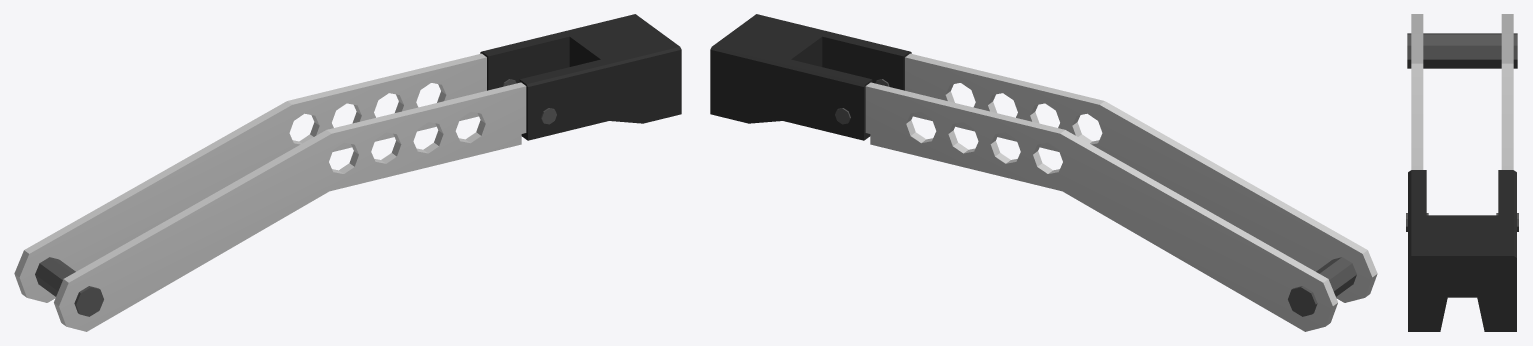
The model's file is Shotgun5_05_2.fbx.
3 renders of one model, left to right at view 1: azimuth 30°, elevation 25°; view 2: azimuth 150°, elevation 25°; view 3: azimuth 270°, elevation 25°, orthographic. The views are drawn at different scales.
Visible parts, largest first — view 1: Shotgun5_05_2; view 2: Shotgun5_05_2; view 3: Shotgun5_05_2.
Boxes of the visible parts, left/top/right/bottom form: Shotgun5_05_2: left=14, top=14, right=681, bottom=331; Shotgun5_05_2: left=710, top=14, right=1377, bottom=331; Shotgun5_05_2: left=1406, top=14, right=1518, bottom=331.
Bounding box in the file's own units: 0.4016 × 0.0868 × 0.0553.
